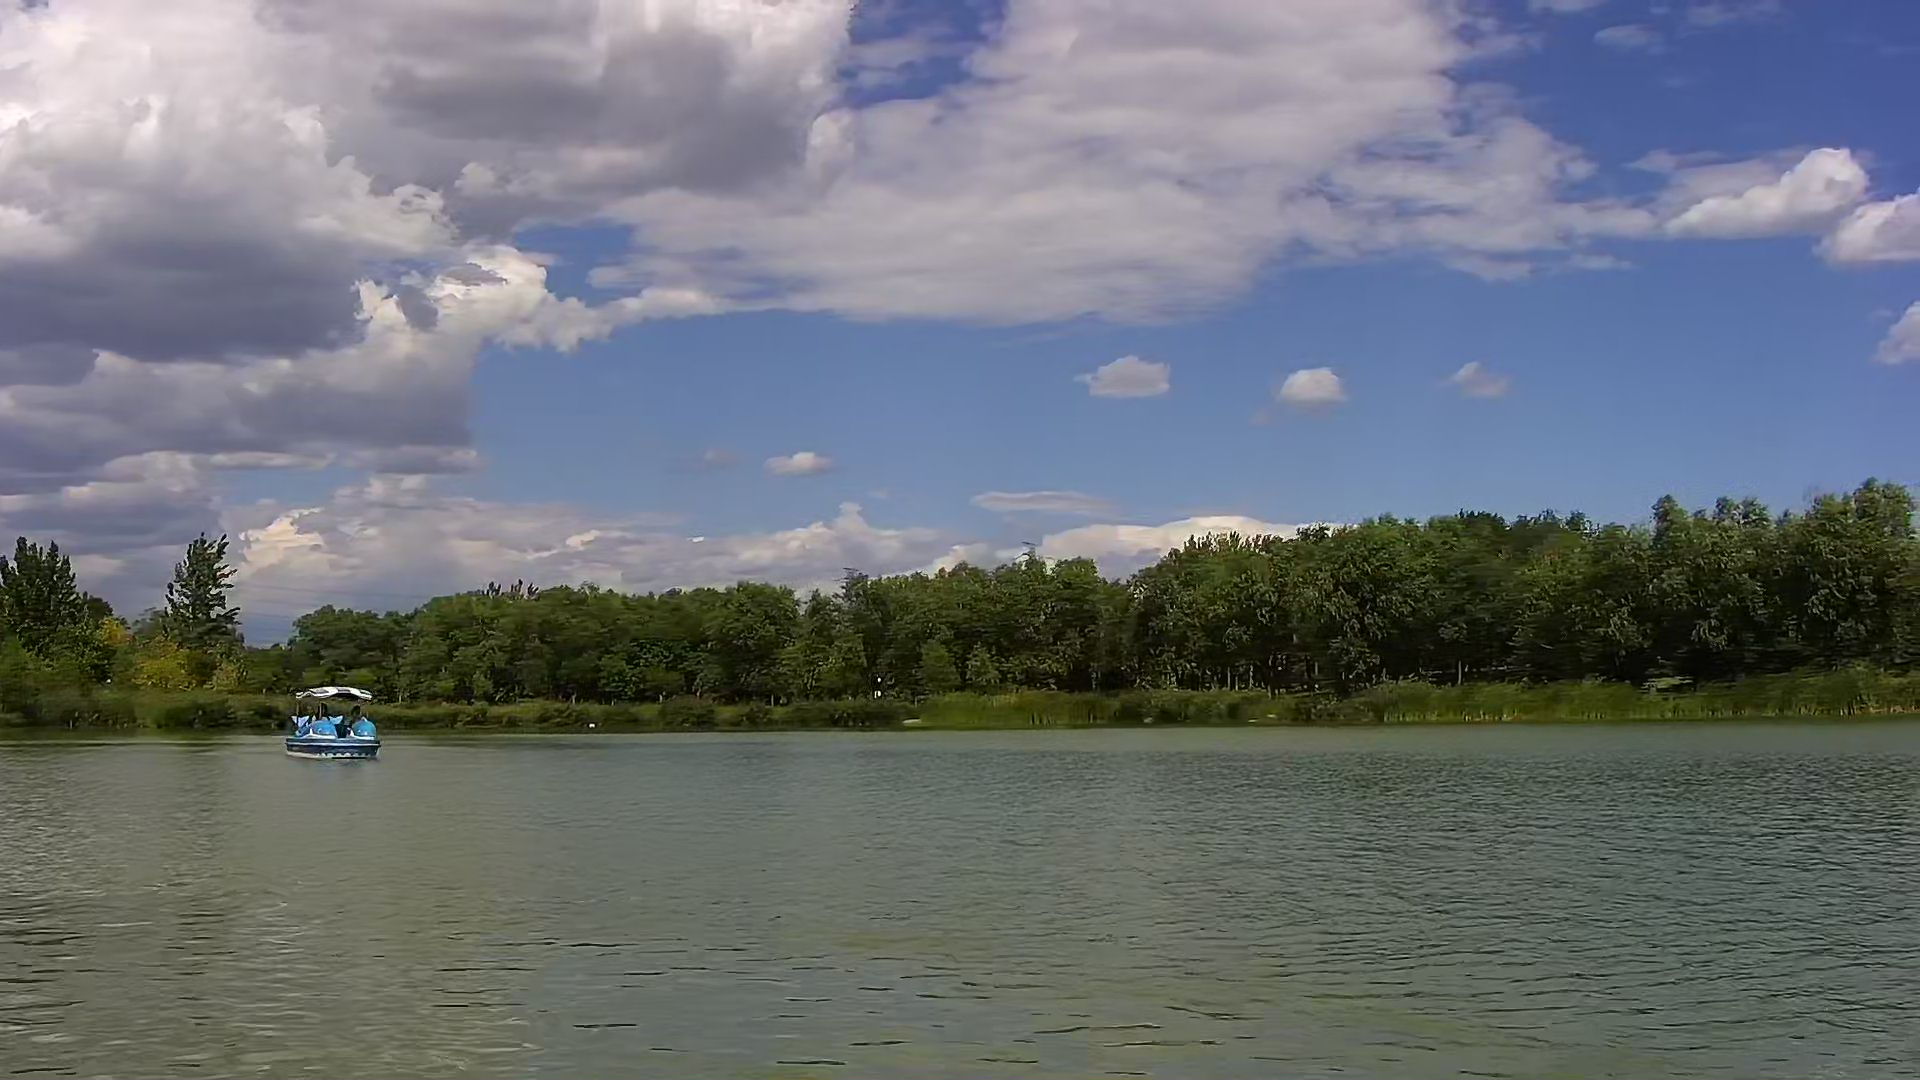boat: (284, 688, 375, 764)
